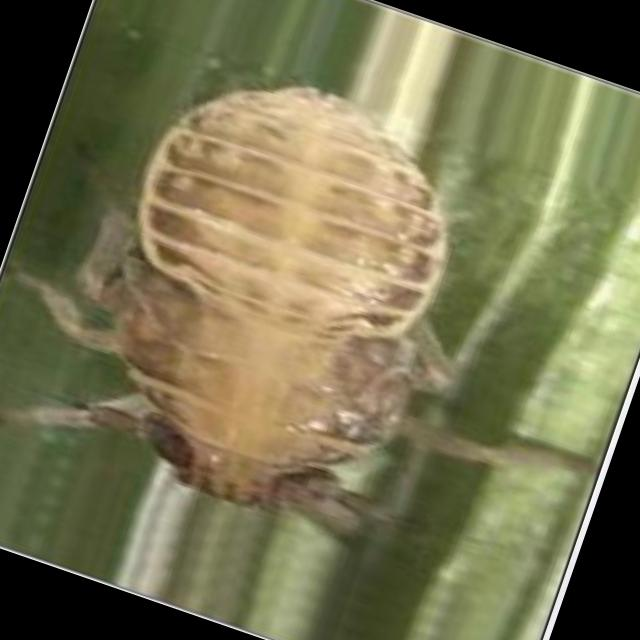brown-planthopper: (46, 39, 534, 562)
